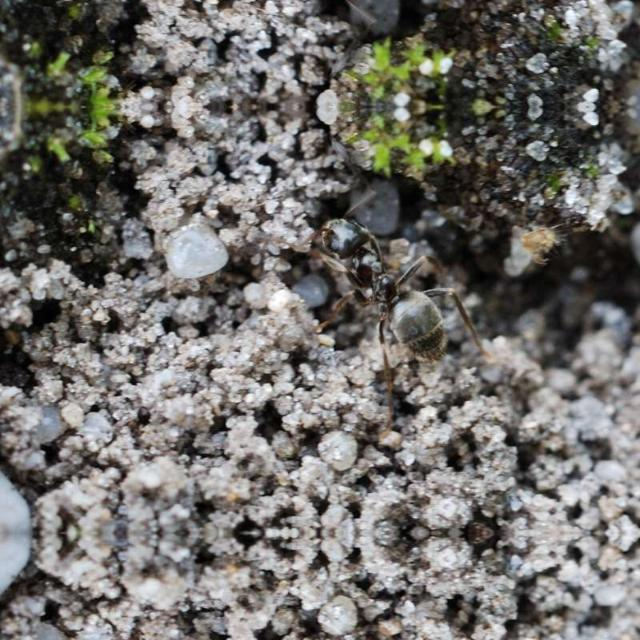Lasius: (290, 177, 482, 395)
